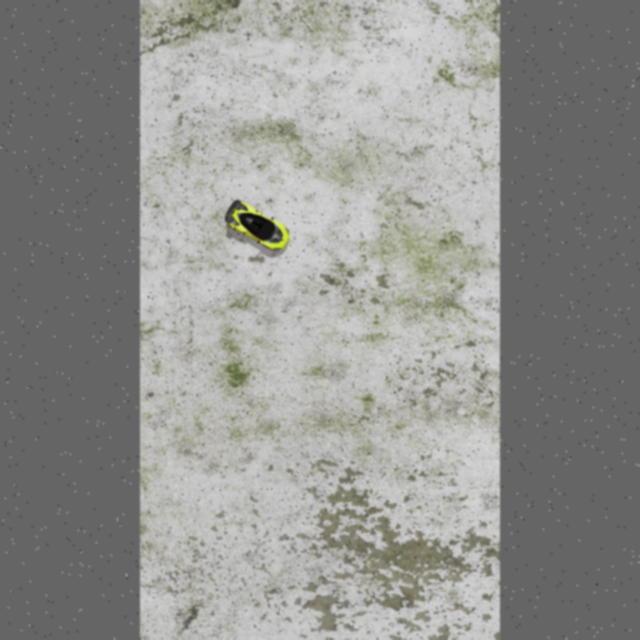car: (219, 195, 294, 257)
